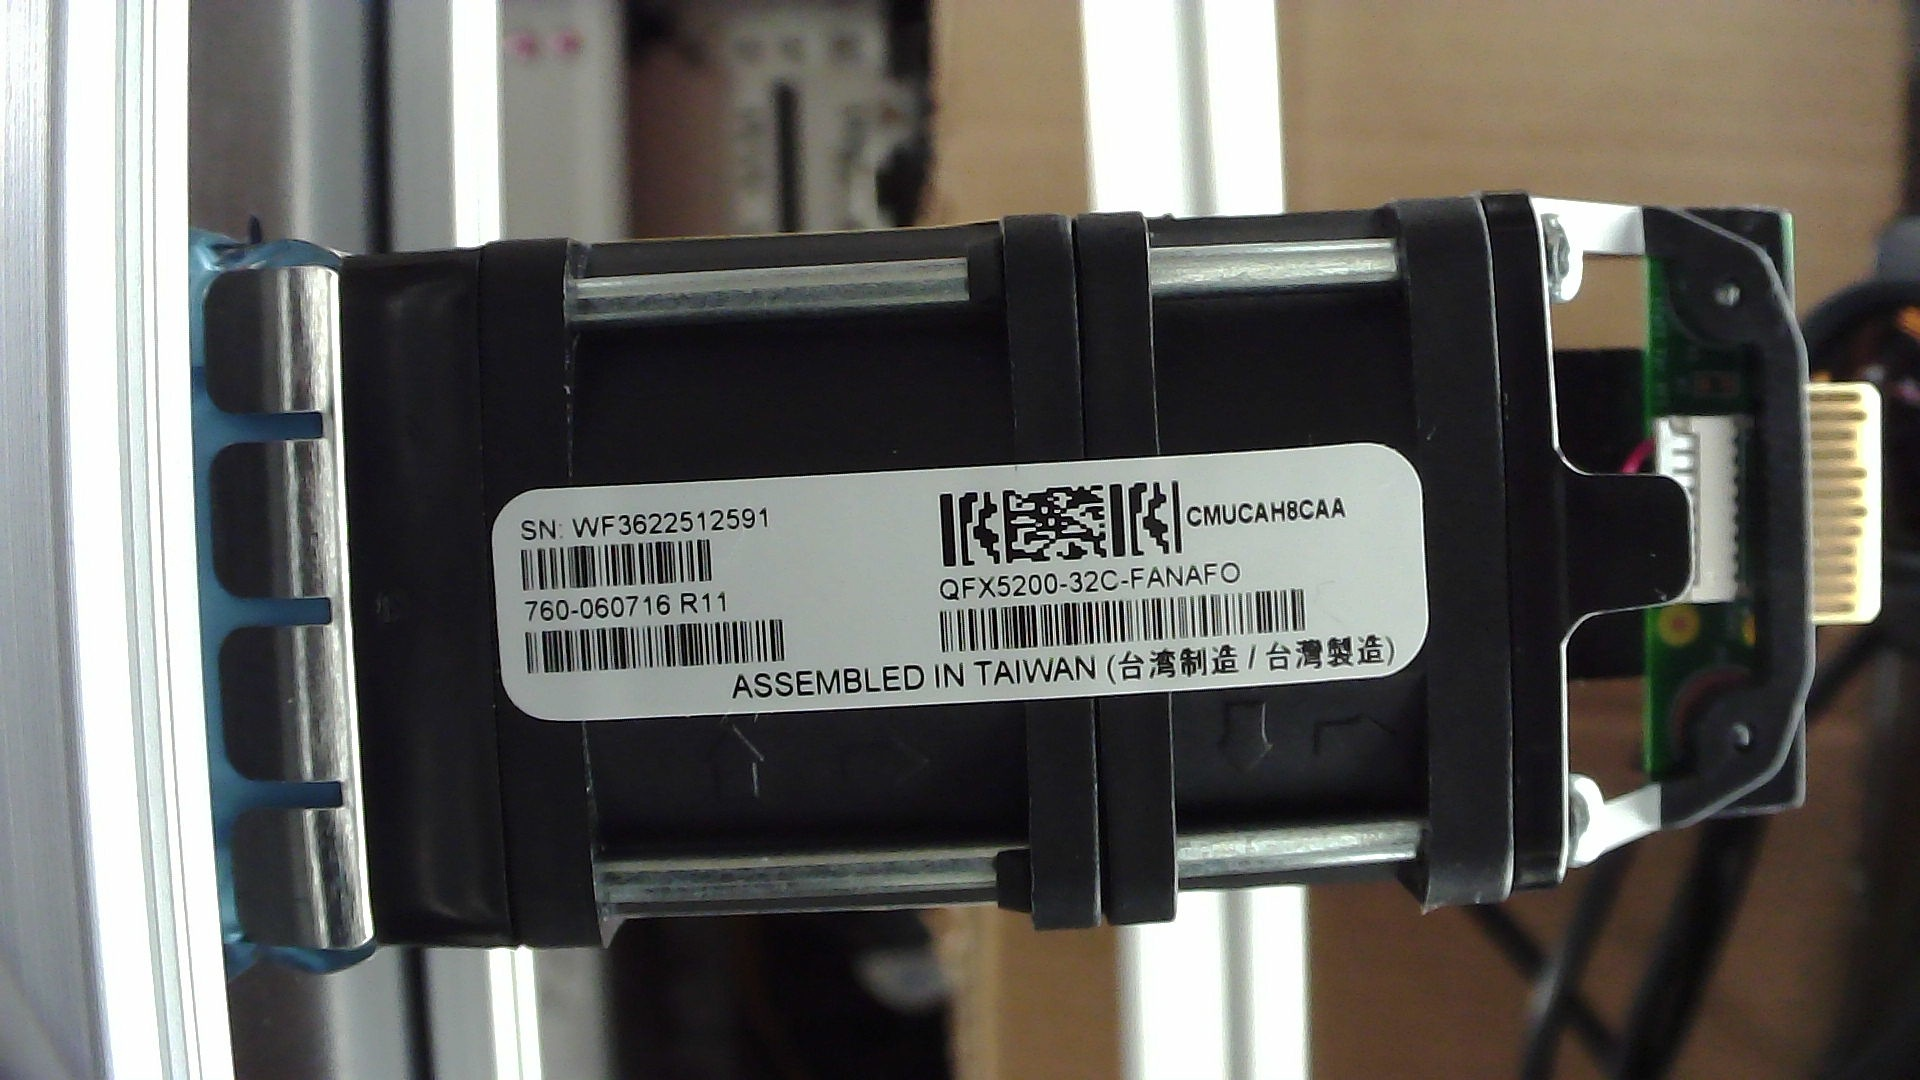6_0: (129, 160, 1905, 952)
